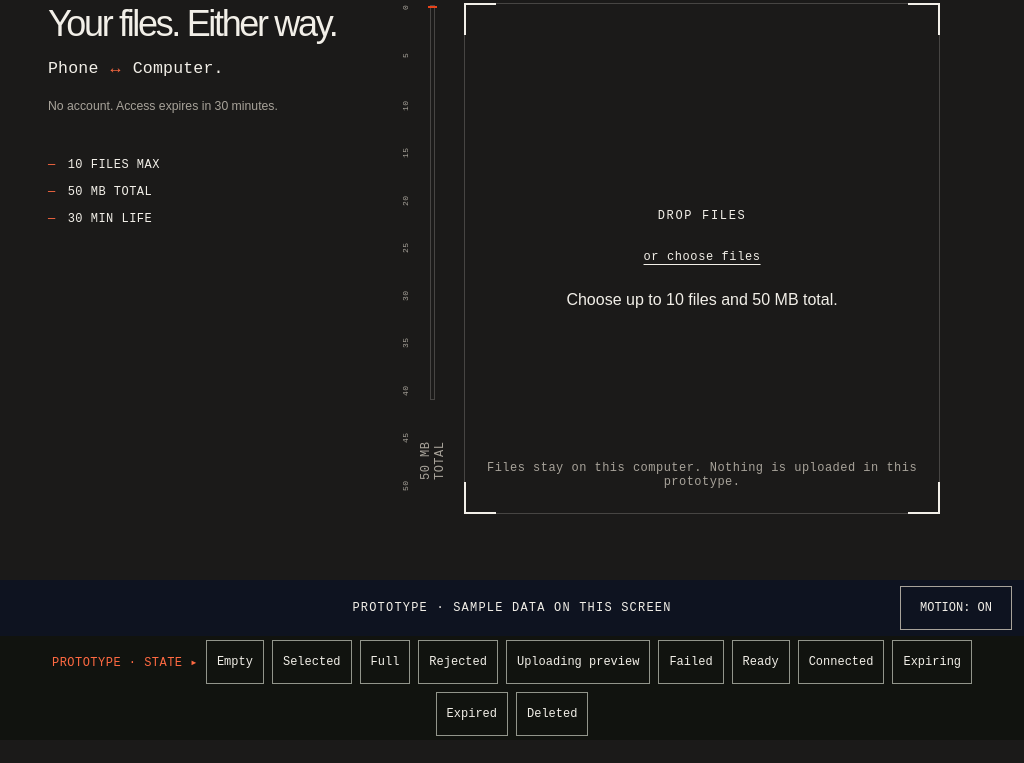
Test: DropLink visual prototype › lets the motion control toggle the nonessential motion class
(page scrolled)
Click the button "MOTION: ON": (956, 608) [900,586,1012,630]
(page scrolled)
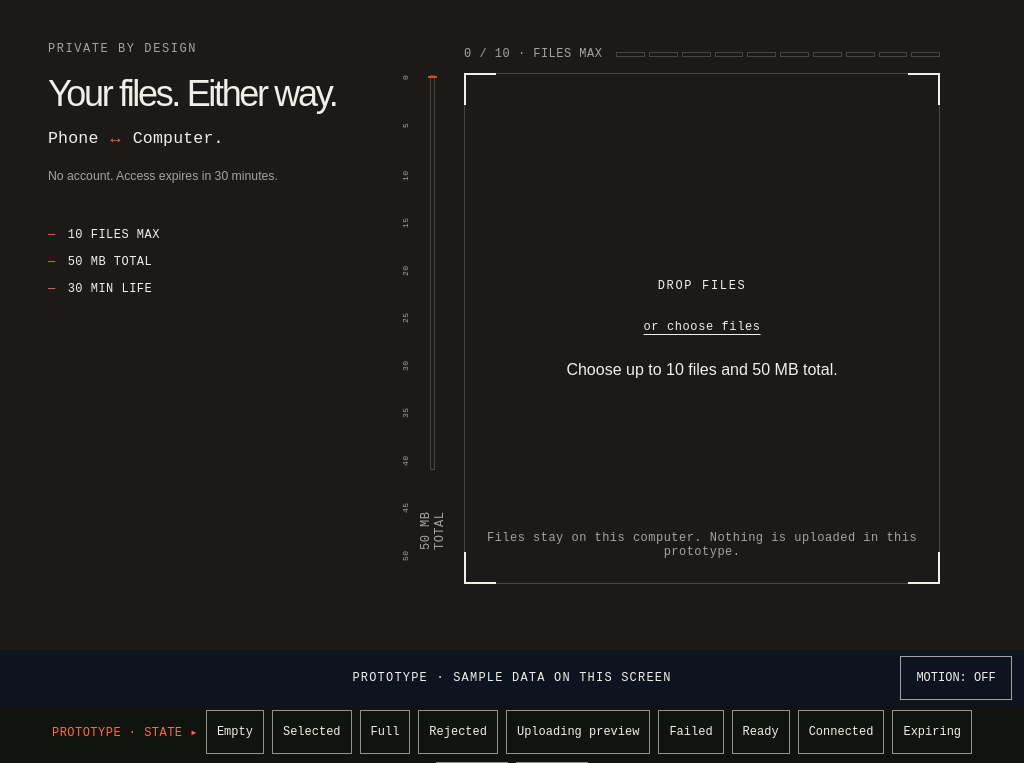
Expected: the button "MOTION: OFF" is not pressed, [900,656,1012,700]
